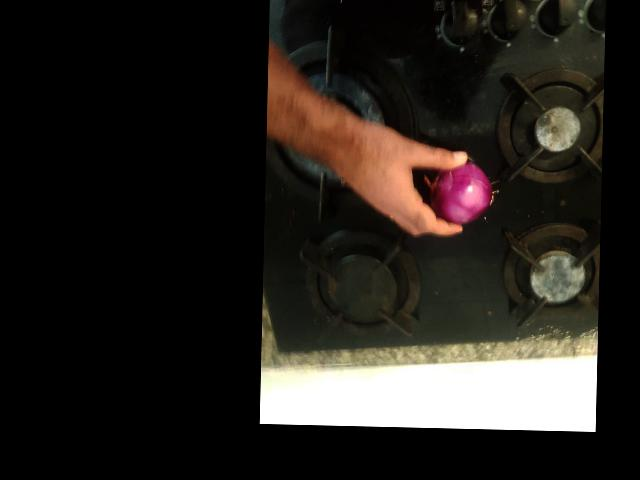onion: (465, 247, 544, 314)
